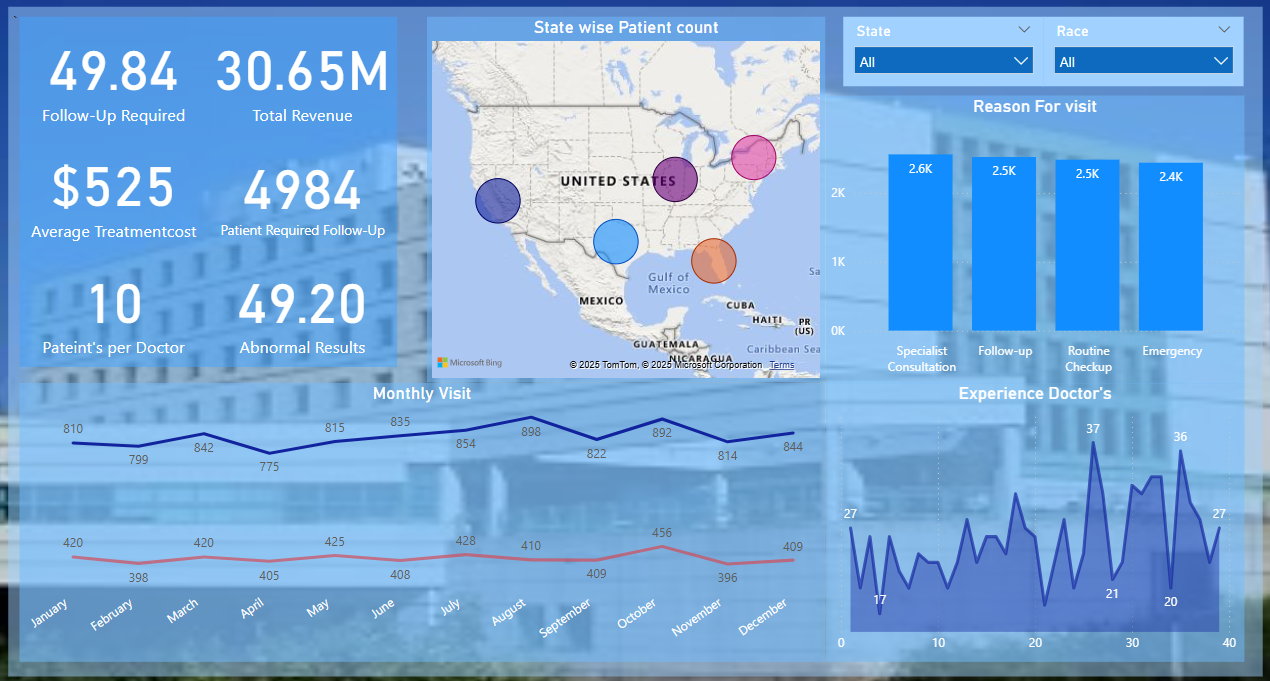

Layout of this report page (visuals, bound fields, positions):
{"tool":"powerbi","page":{"name":"Page 1","canvas":[1280,720],"ordinal":1},"visuals":[{"type":"textbox","box":[16.2,32.5,1227.5,655],"z":0},{"type":"lineChart","title":"Monthly Visit","fields":{"Category":["Visit.Visit Date.Variation.Date Hierarchy.Year","Visit.Visit Date.Variation.Date Hierarchy.Quarter","Visit.Visit Date.Variation.Date Hierarchy.Month","Visit.Visit Date.Variation.Date Hierarchy.Day"],"Y":["CountNonNull(Visit.Visit ID)","Doctor.followuprequired"]},"box":[27.4,401.1,787.7,272.7],"z":1000},{"type":"card","fields":{"Values":["Doctor.followuprequired%"]},"box":[27.4,43.3,184.7,114],"z":2000},{"type":"card","fields":{"Values":["Doctor.followuprequired"]},"box":[211.6,156.5,184.6,113.7],"z":3000},{"type":"card","fields":{"Values":["Sum(Treatments.total cost)"]},"box":[212.1,43.3,184.7,114],"z":4000},{"type":"card","fields":{"Values":["Avg(Treatments.Treatment Cost)"]},"box":[26.9,156.5,184.6,113.7],"z":5000},{"type":"card","fields":{"Values":["Doctor.doctor wrok load"]},"box":[26.9,270.2,184.6,114.9],"z":6000},{"type":"card","fields":{"Values":["Lab result.abnormalrate%"]},"box":[211.6,270.2,184.6,114.9],"z":7000},{"type":"map","title":"State wise Patient count","fields":{"Category":["Patient.State"],"Size":["CountNonNull(Patient.Patient ID)"],"Series":["Patient.State"]},"box":[425.6,43.3,389.5,357.8],"z":8000},{"type":"slicer","fields":{"Values":["Patient.Race"]},"box":[1028.7,43.3,196.2,67.8],"z":9000},{"type":"slicer","fields":{"Values":["Patient.State"]},"box":[832.5,43.3,196.2,67.8],"z":10000},{"type":"columnChart","title":"Reason For visit","fields":{"Category":["Visit.Visit Type"],"Y":["CountNonNull(Visit.Patient ID)"]},"box":[815.2,119.7,409.7,281.3],"z":10001},{"type":"areaChart","title":"Experience Doctor''s","fields":{"Category":["Doctor.Years Of Experience"],"Y":["CountNonNull(Doctor.Doctor ID)"]},"box":[815.2,401.1,409.7,272.7],"z":10002}]}

Visuals, with their boxes on the page's 1280x720 design canvas (x1, y1, x2, y2). These are canvas units, not pixel positions in the 1270x681 screenshot, which may show the page scaled, cropped or inside an application window:
textbox: <box>16,32,1244,688</box>
"Monthly Visit" lineChart: <box>27,401,815,674</box>
card - Doctor.followuprequired%: <box>27,43,212,157</box>
card - Doctor.followuprequired: <box>212,156,396,270</box>
card - Sum(Treatments.total cost): <box>212,43,397,157</box>
card - Avg(Treatments.Treatment Cost): <box>27,156,212,270</box>
card - Doctor.doctor wrok load: <box>27,270,212,385</box>
card - Lab result.abnormalrate%: <box>212,270,396,385</box>
"State wise Patient count" map: <box>426,43,815,401</box>
slicer - Patient.Race: <box>1029,43,1225,111</box>
slicer - Patient.State: <box>832,43,1029,111</box>
"Reason For visit" columnChart: <box>815,120,1225,401</box>
"Experience Doctor''s" areaChart: <box>815,401,1225,674</box>
